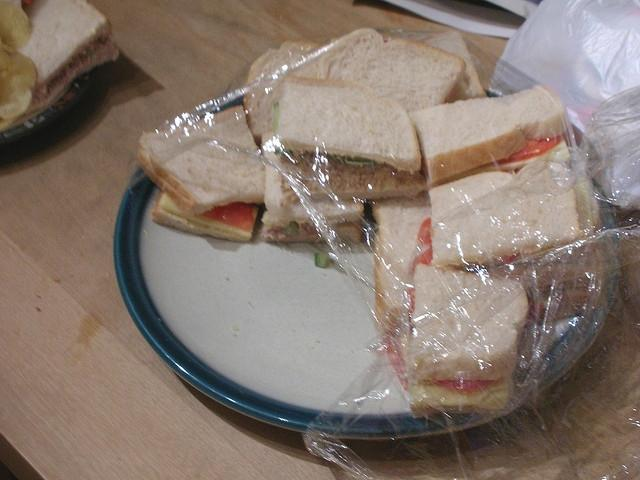tomato: (496, 134, 564, 164), (202, 202, 255, 232), (412, 217, 432, 275), (431, 380, 494, 391)
